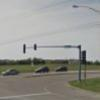cars: (34, 65, 50, 74), (2, 68, 20, 76), (54, 66, 68, 72)
